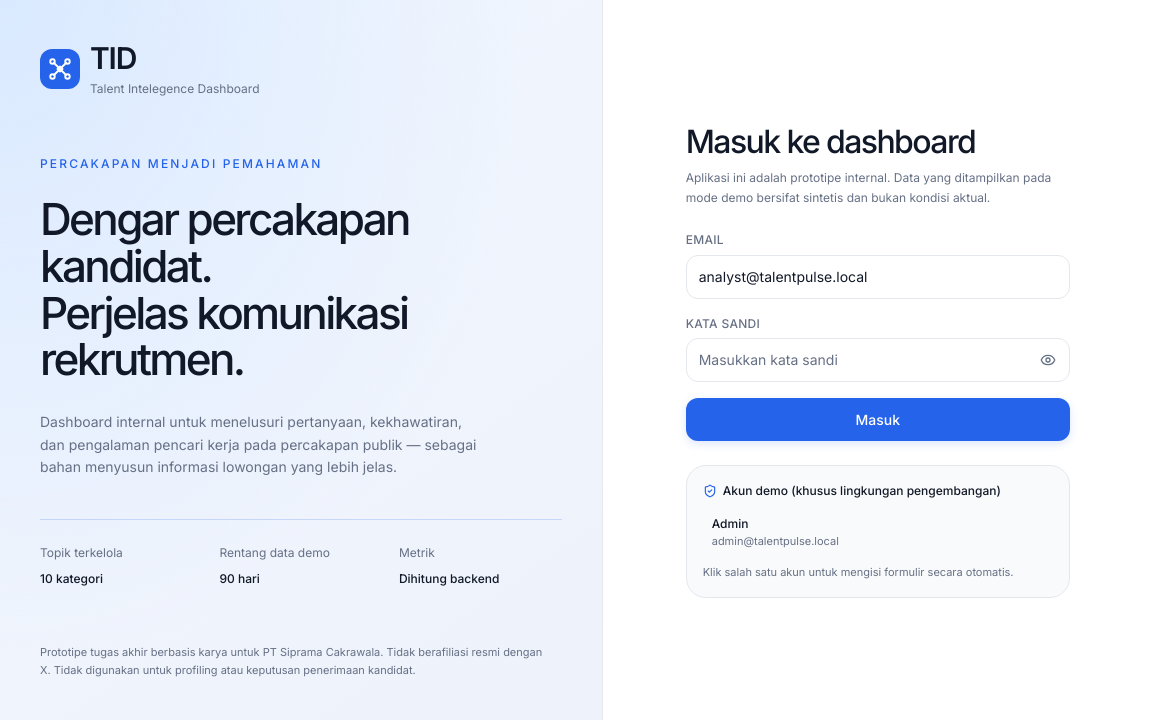
halaman masuk › menolak pengiriman tanpa kata sandi
Expected: the text "admin@talentpulse.local" is shown, [712,534,839,548]
Click the button "Masuk": (878, 420) [686,398,1070,441]
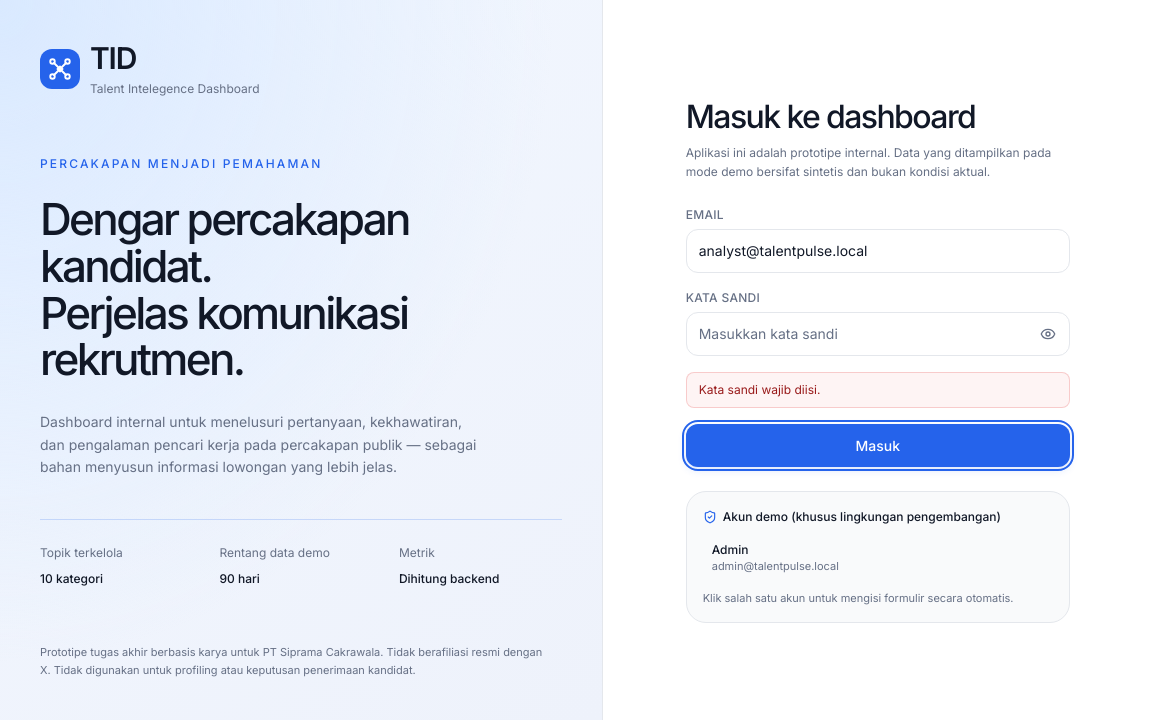
Expected: the message reads "Kata sandi wajib diisi.", [699,382,820,397]
